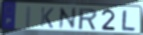2: (101, 9, 116, 32)
I: (24, 5, 33, 30)
K: (40, 6, 56, 29)
L: (121, 9, 137, 32)
N: (59, 7, 77, 30)
R: (78, 8, 99, 31)
